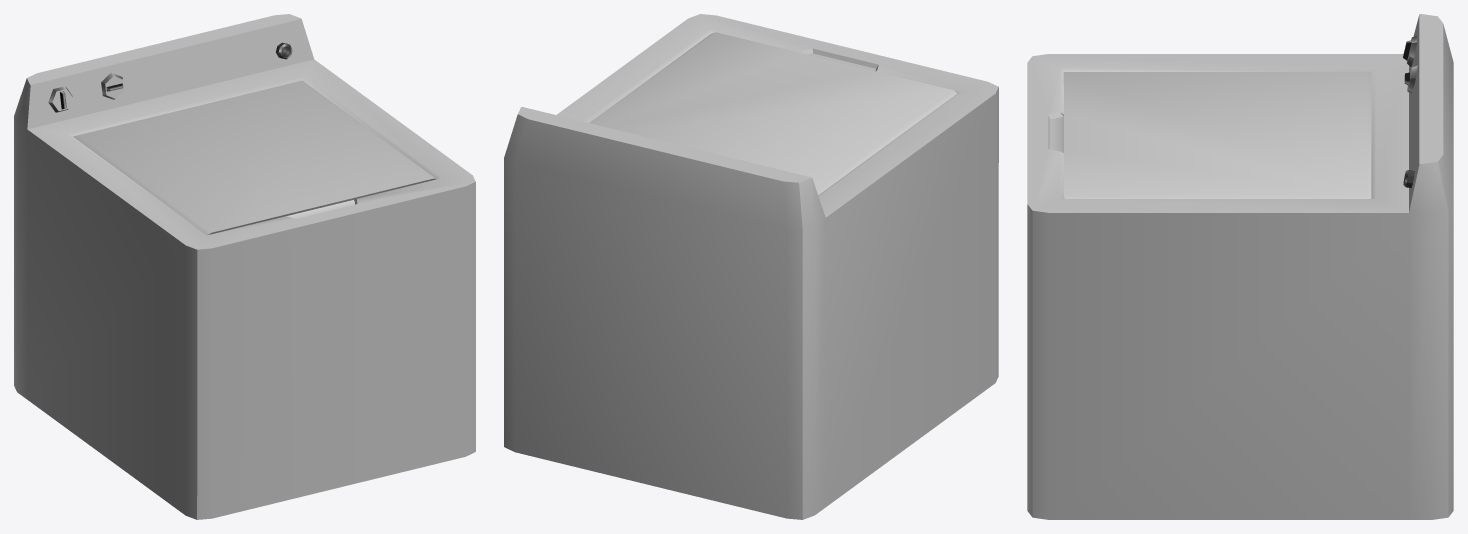
File: Washer_01.FBX
The picture shows the model from 3 angles, left to right: view 1: azimuth 30°, elevation 25°; view 2: azimuth 150°, elevation 25°; view 3: azimuth 270°, elevation 25°; orthographic projection. The views are drawn at different scales.
Parts seen in each view (by area): view 1: Washer; view 2: Washer; view 3: Washer.
Boxes of the visible parts, x1,y1,x2,y2 form: Washer: [14, 14, 475, 519]; Washer: [504, 14, 998, 519]; Washer: [1027, 14, 1453, 519].
Bounding box in the file's own units: 150 × 155 × 170.
